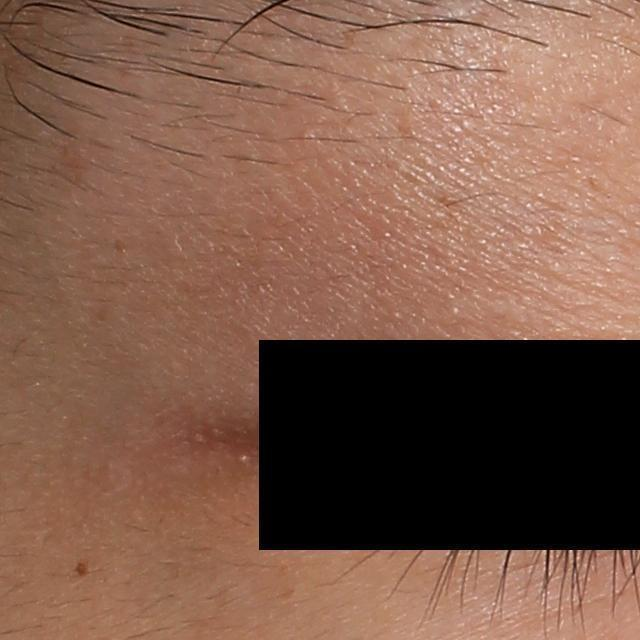nevus: (72, 558, 88, 578)
